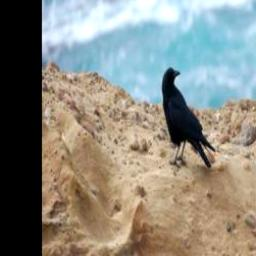Crow: (161, 62, 215, 171)
